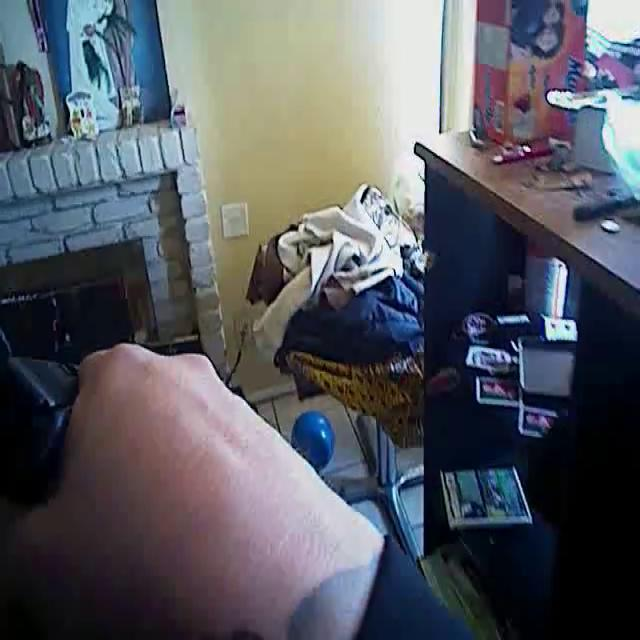gun: (0, 305, 103, 561)
